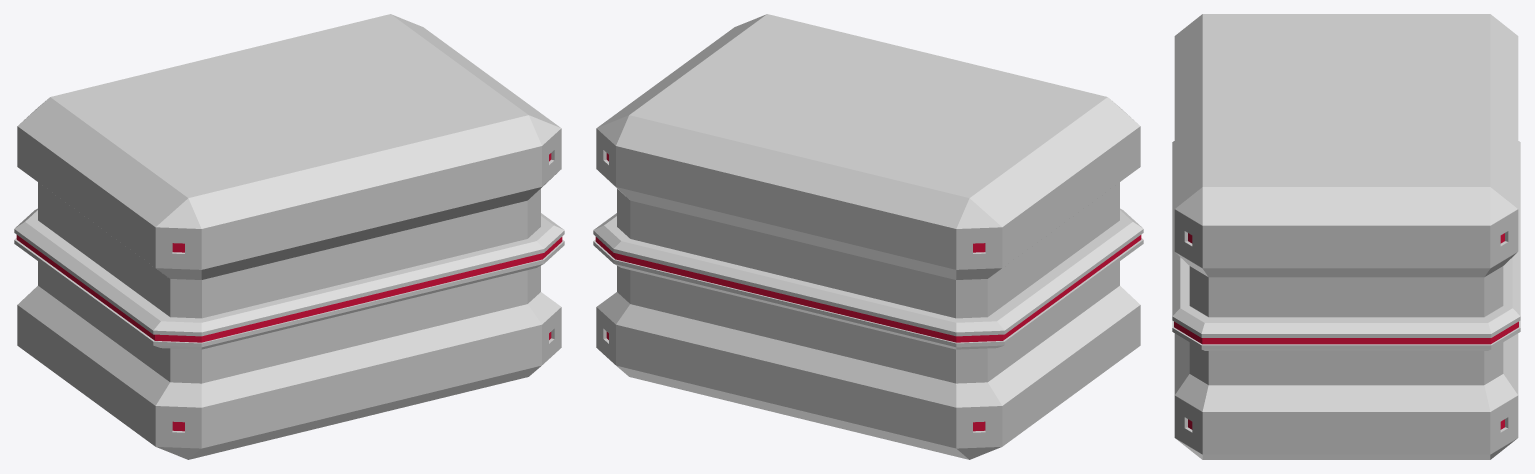
3 renders of one model, left to right at view 1: azimuth 30°, elevation 25°; view 2: azimuth 150°, elevation 25°; view 3: azimuth 270°, elevation 25°, orthographic. The views are drawn at different scales.
Parts seen in each view (by area): view 1: Cube.001; view 2: Cube.001; view 3: Cube.001.
Boxes of the visible parts, x1,y1,x2,y2 form: Cube.001: [14, 14, 564, 459]; Cube.001: [593, 14, 1143, 459]; Cube.001: [1172, 14, 1520, 459].
Bounding box in the file's own units: 139 × 84.28 × 97.45.
